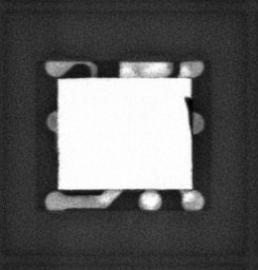DIE_BROKEN: (184, 94, 192, 132)
